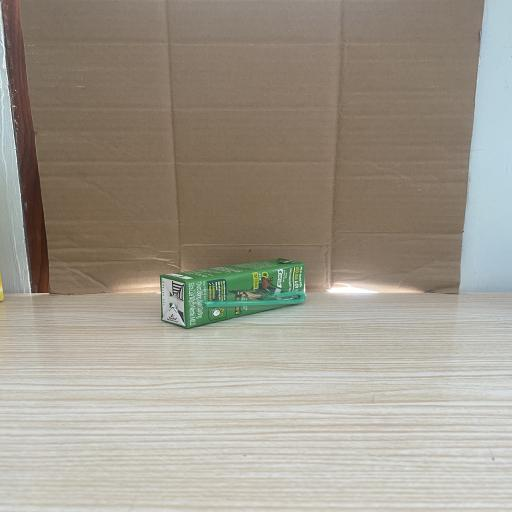milo: (160, 258, 306, 329)
